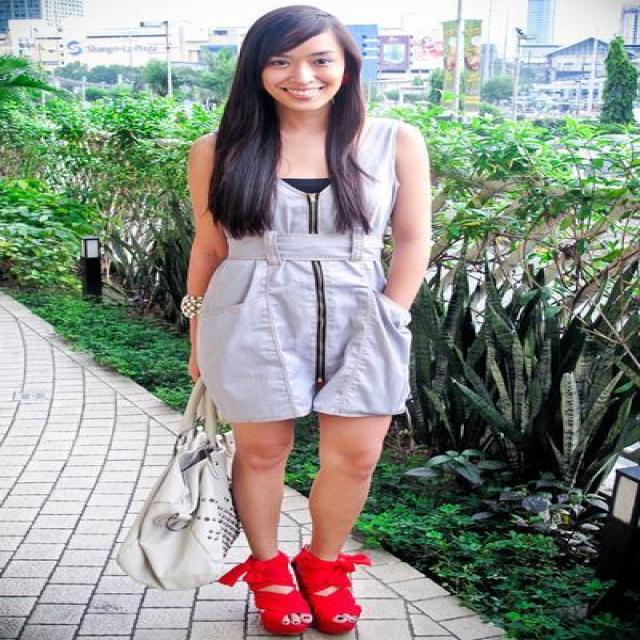bag: (96, 418, 251, 593)
dress: (181, 116, 411, 422)
shoe: (216, 550, 363, 623)
